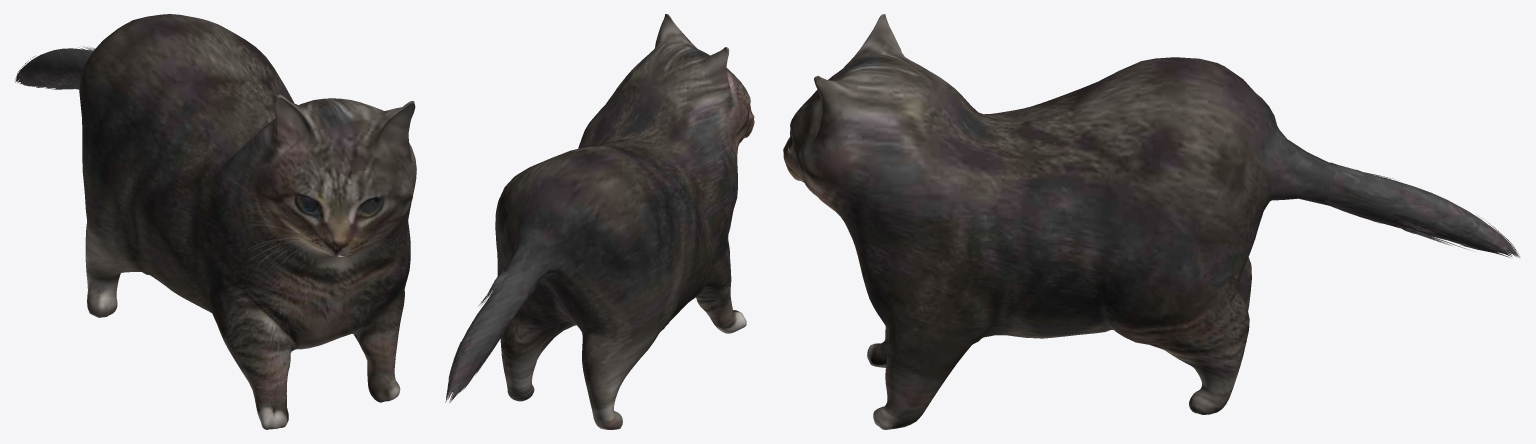
3 renders of one model, left to right at view 1: azimuth 30°, elevation 25°; view 2: azimuth 150°, elevation 25°; view 3: azimuth 270°, elevation 25°, orthographic. The views are drawn at different scales.
Visible parts, largest first — view 1: Muchkin1.002_4; view 2: Muchkin1.002_4; view 3: Muchkin1.002_4.
Boxes of the visible parts, bbox=[...] form: Muchkin1.002_4: bbox=[15, 14, 416, 429]; Muchkin1.002_4: bbox=[445, 14, 754, 429]; Muchkin1.002_4: bbox=[783, 14, 1519, 429].
Size of the model in its own units: 0.2392 by 0.3866 by 0.7242.
Materials: 1 (1 with a texture image).
